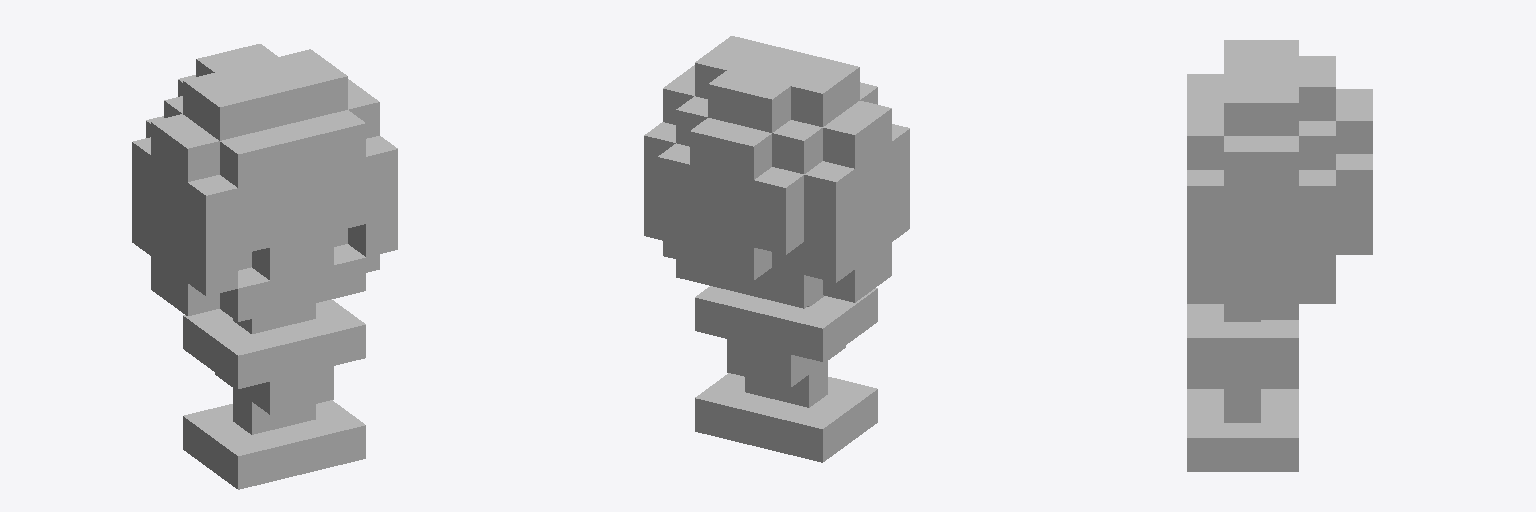
The model's file is Skeleton.obj.
3 views of the same model, side by side, from view 1: azimuth 30°, elevation 25°; view 2: azimuth 150°, elevation 25°; view 3: azimuth 270°, elevation 25° (orthographic).
Visible parts, largest first — view 1: object 1; view 2: object 1; view 3: object 1.
Part boxes in pixels (x1,y1,x2,y2): object 1: (132, 44, 397, 489); object 1: (644, 36, 909, 462); object 1: (1187, 40, 1372, 471).
Bounding box in the file's own units: 0.6 × 1.1 × 0.5.